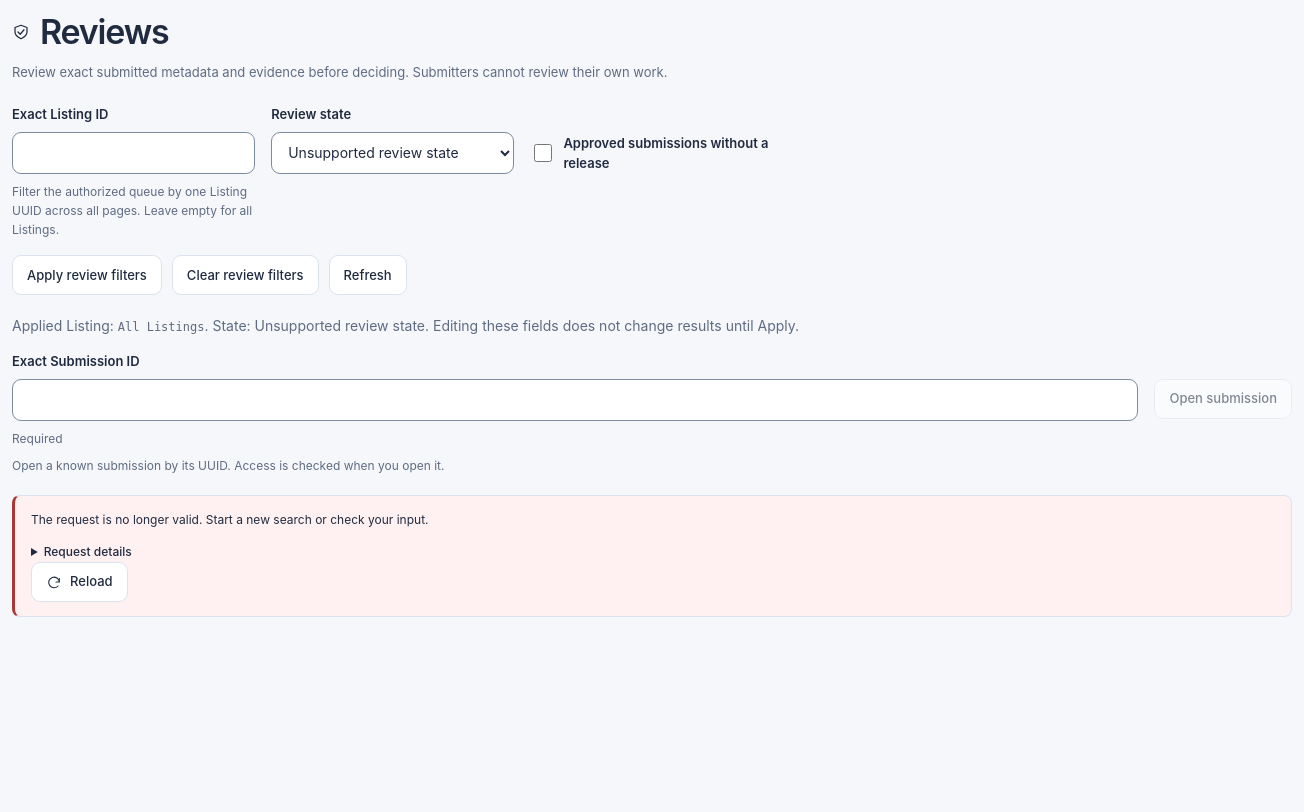
keeps unknown URL state APPROVED unsupported and recovers through an explicit valid Apply
This screenshot has width=1304, height=812.
Expected: the message is shown, [12,495,1292,617]
Select "Approved" in the dropdown labelled "Review state". click: point(393, 153)
box: [271,132,514,174]
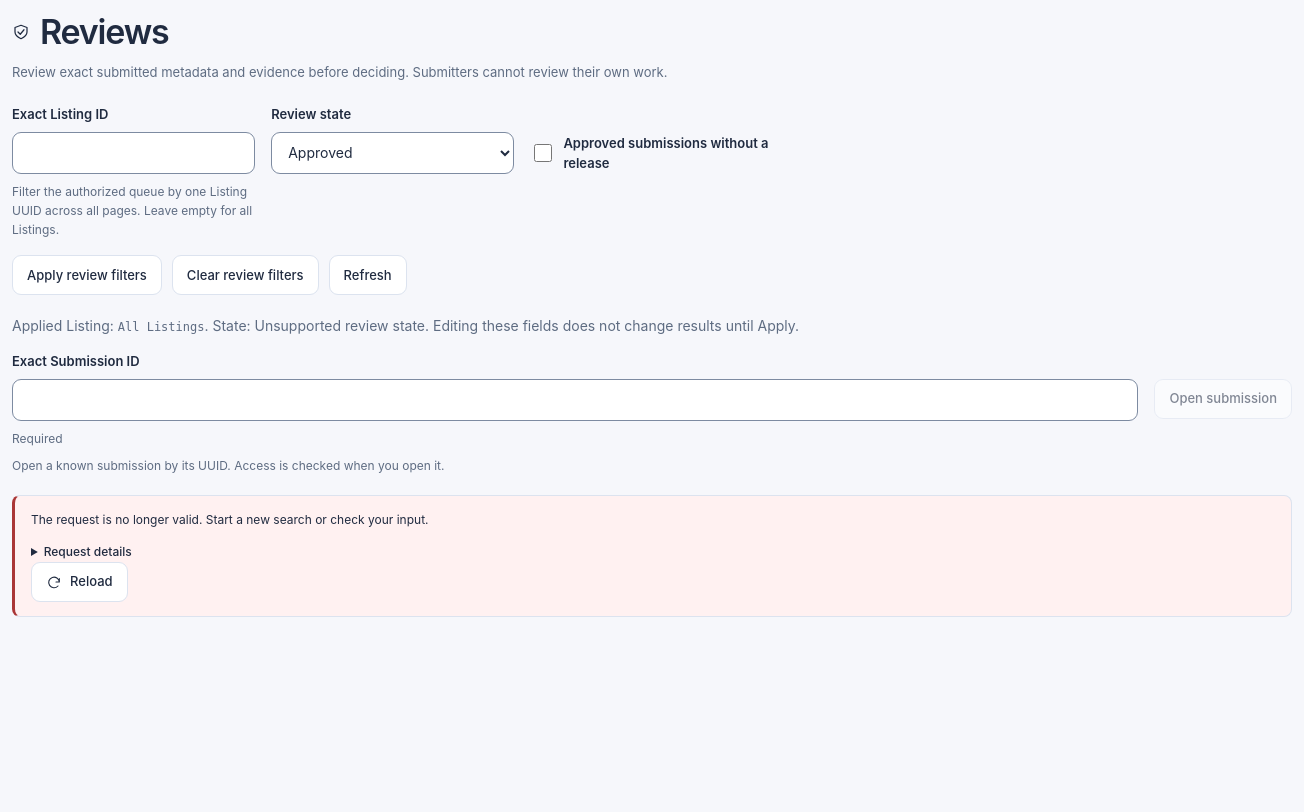
Click the button "Apply review filters". click: point(87, 275)
box: [12,255,162,295]
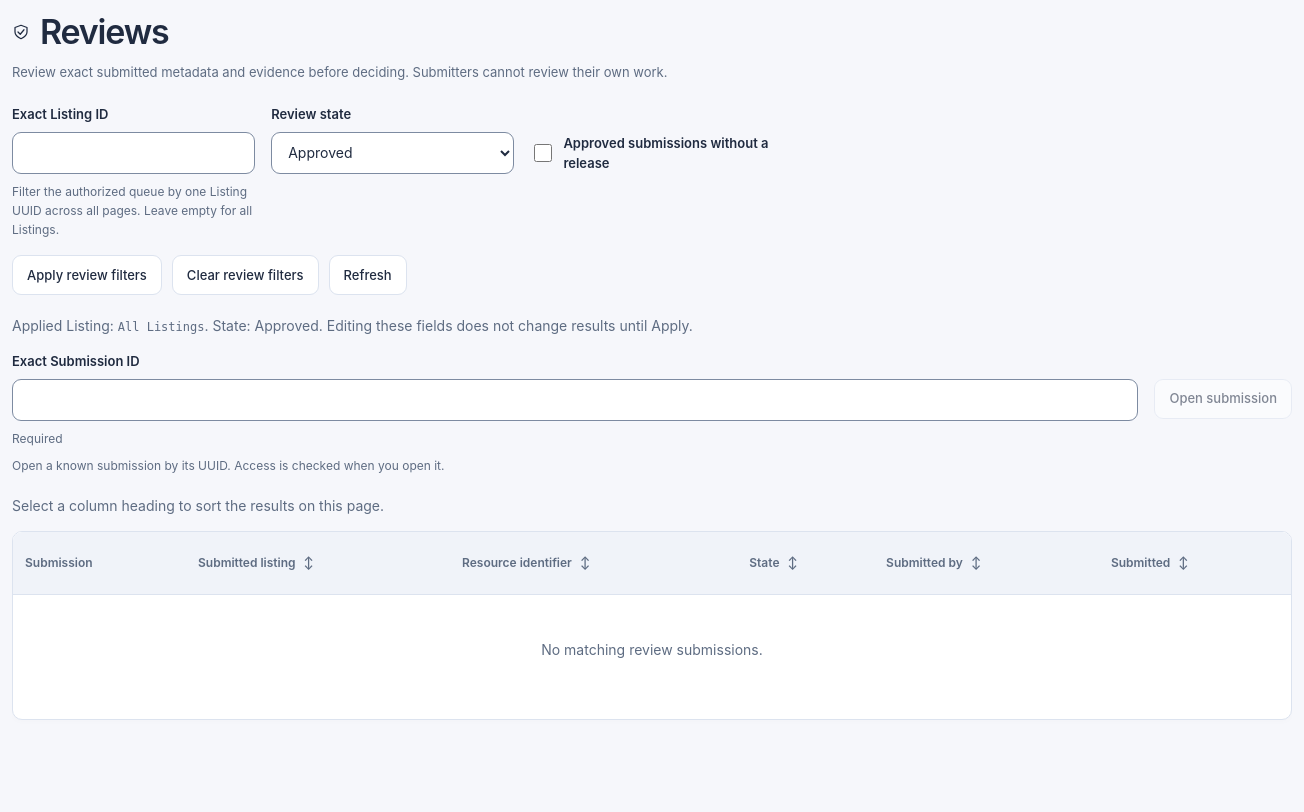
Expected: the text "No matching review submissions." is shown, [541,641,763,658]
